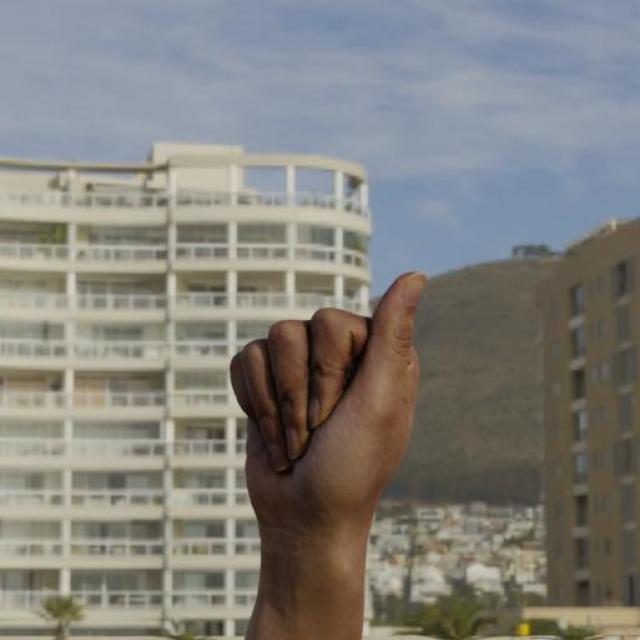A: (227, 270, 429, 528)
